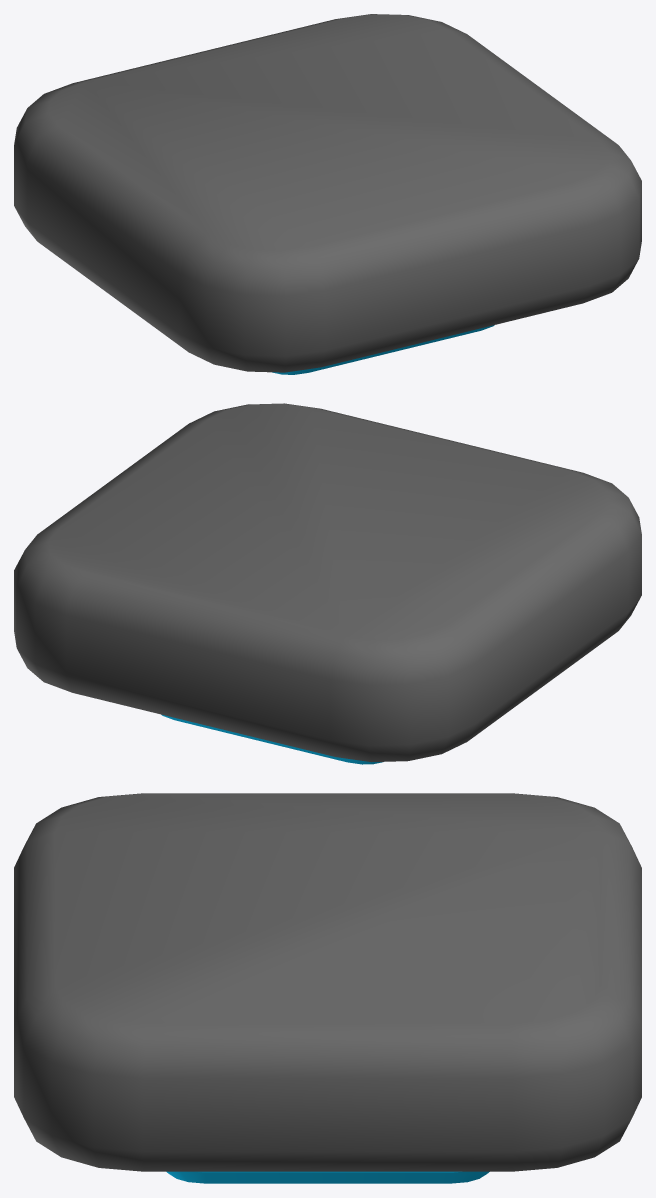
File: Form_Base.fbx
The picture shows the model from 3 angles, top to bottom: view 1: azimuth 30°, elevation 25°; view 2: azimuth 150°, elevation 25°; view 3: azimuth 270°, elevation 25°; orthographic projection. The views are drawn at different scales.
Visible parts, largest first — view 1: Form_Base; view 2: Form_Base; view 3: Form_Base.
Part boxes in pixels (x1,y1,x2,y2): Form_Base: (14, 14, 641, 374); Form_Base: (14, 403, 641, 764); Form_Base: (14, 793, 641, 1183).
Bounding box in the file's own units: 50 × 18.14 × 50.01.
